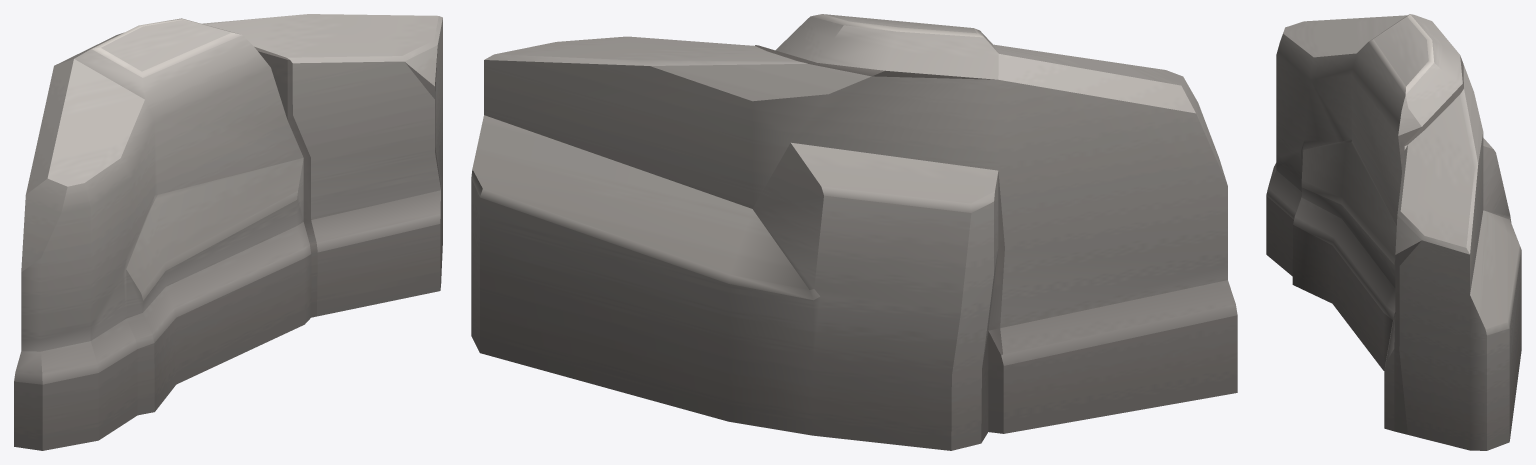
Rendered from Rock_06.fbx.
3 renders of one model, left to right at view 1: azimuth 30°, elevation 25°; view 2: azimuth 150°, elevation 25°; view 3: azimuth 270°, elevation 25°, orthographic. The views are drawn at different scales.
Parts seen in each view (by area): view 1: Rock_06; view 2: Rock_06; view 3: Rock_06.
Part boxes in pixels (x1=…): Rock_06: x1=14, y1=14, x2=442, y2=450; Rock_06: x1=471, y1=14, x2=1237, y2=450; Rock_06: x1=1266, y1=14, x2=1521, y2=450.
Size of what is drawn, in the model's own units: 5.87 by 3.3 by 2.8.
Materials: 1 (1 with a texture image).
